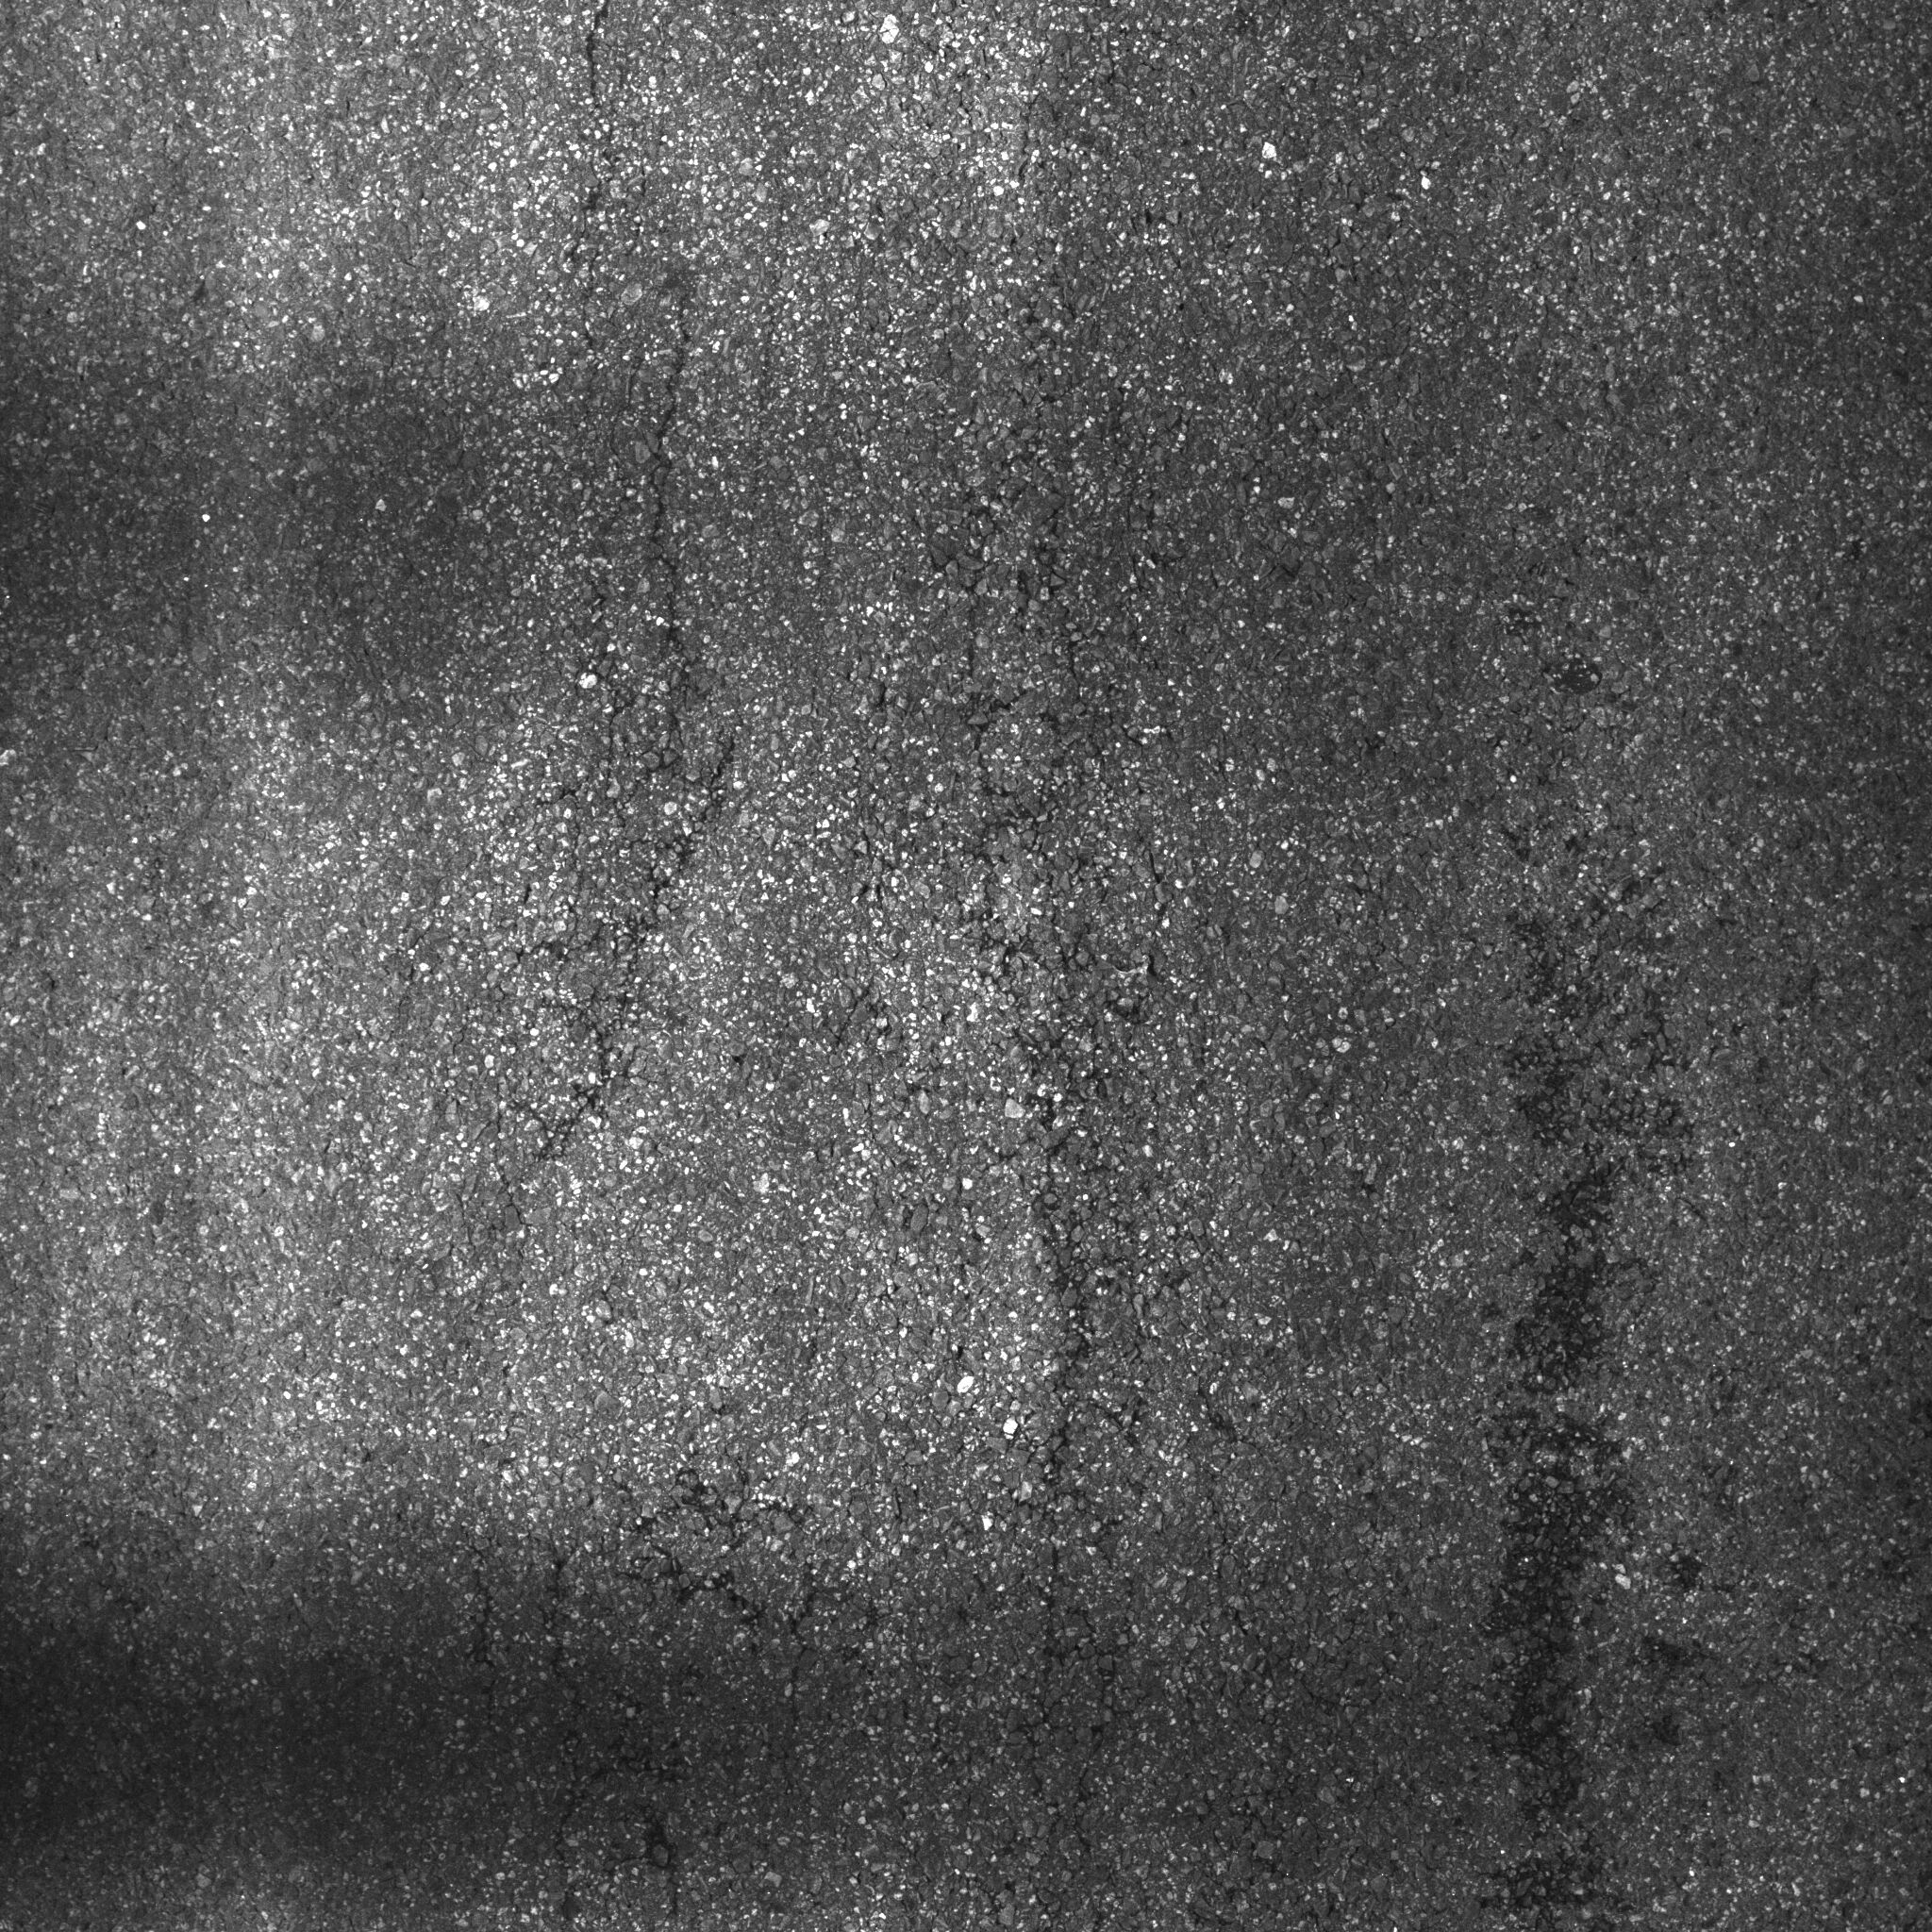alligator: (288, 2, 1343, 1921)
